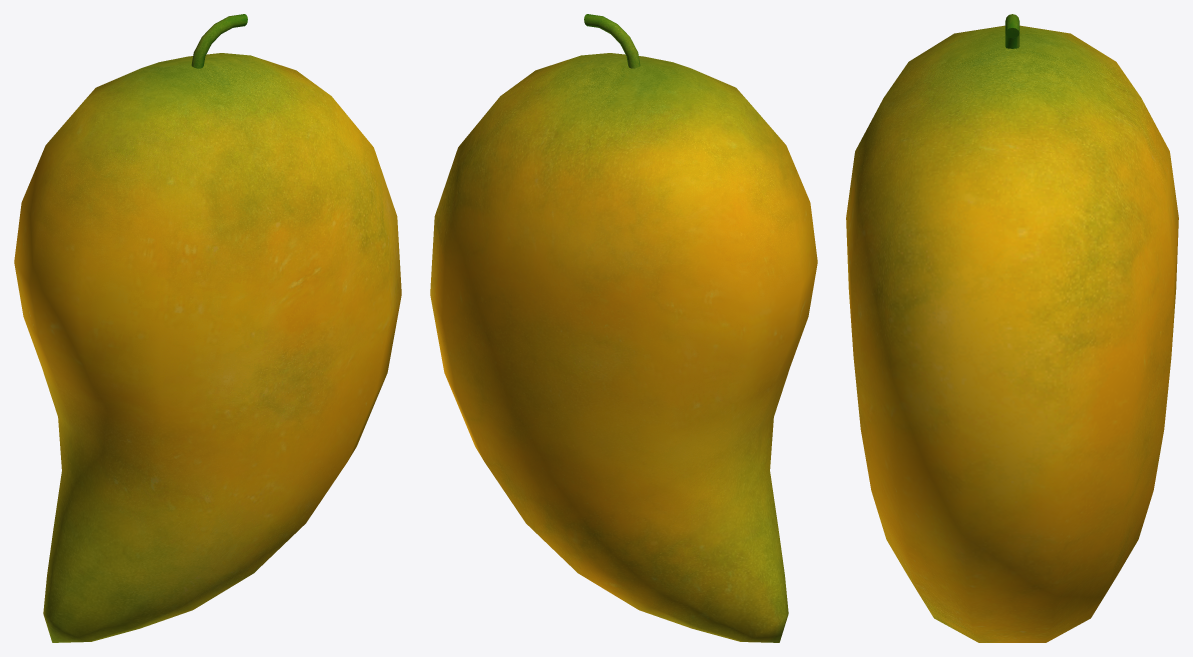
Rendered from Mango.FBX.
3 renders of one model, left to right at view 1: azimuth 30°, elevation 25°; view 2: azimuth 150°, elevation 25°; view 3: azimuth 270°, elevation 25°, orthographic. The views are drawn at different scales.
Parts seen in each view (by area): view 1: Mango; view 2: Mango; view 3: Mango.
Boxes of the visible parts, left/top/right/bottom form: Mango: left=14, top=14, right=401, bottom=642; Mango: left=430, top=14, right=817, bottom=642; Mango: left=846, top=14, right=1178, bottom=642.
Bounding box in the file's own units: 31.83 × 50.83 × 22.85.
